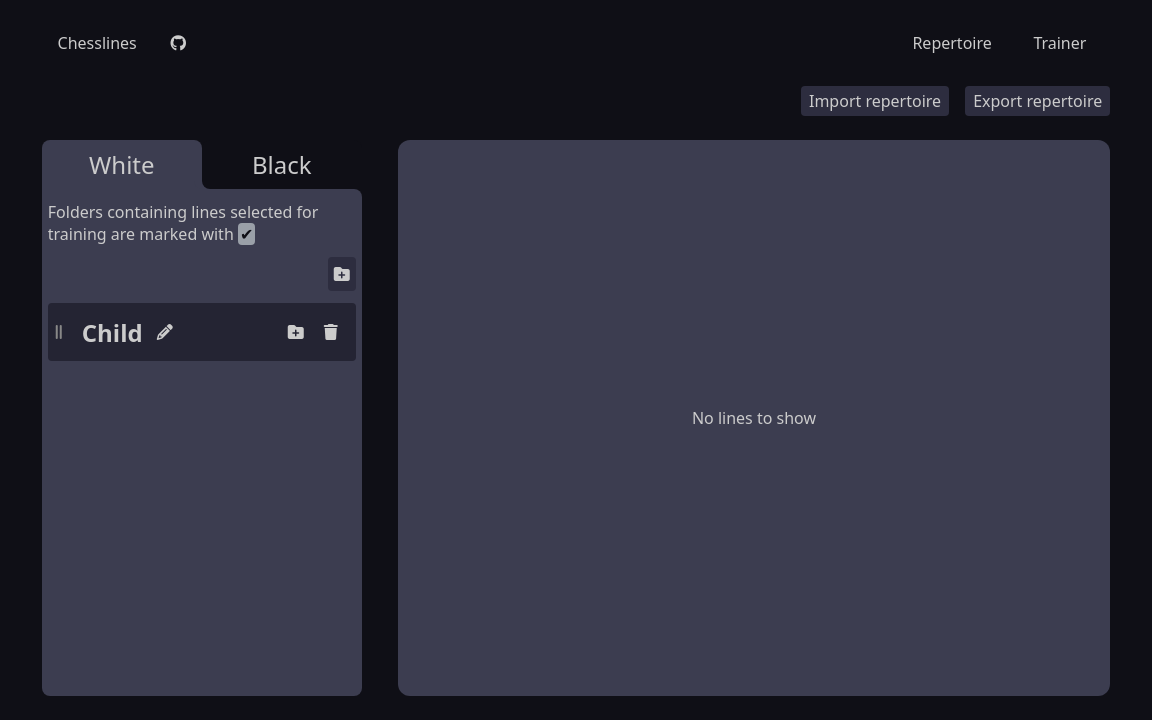
Test: New folder button › Discards new folder name form without submitting and renders new folder button when cancel button clicked
The image size is (1152, 720).
Click the button named "new folder". click: (296, 332)
box: [282,315,310,349]
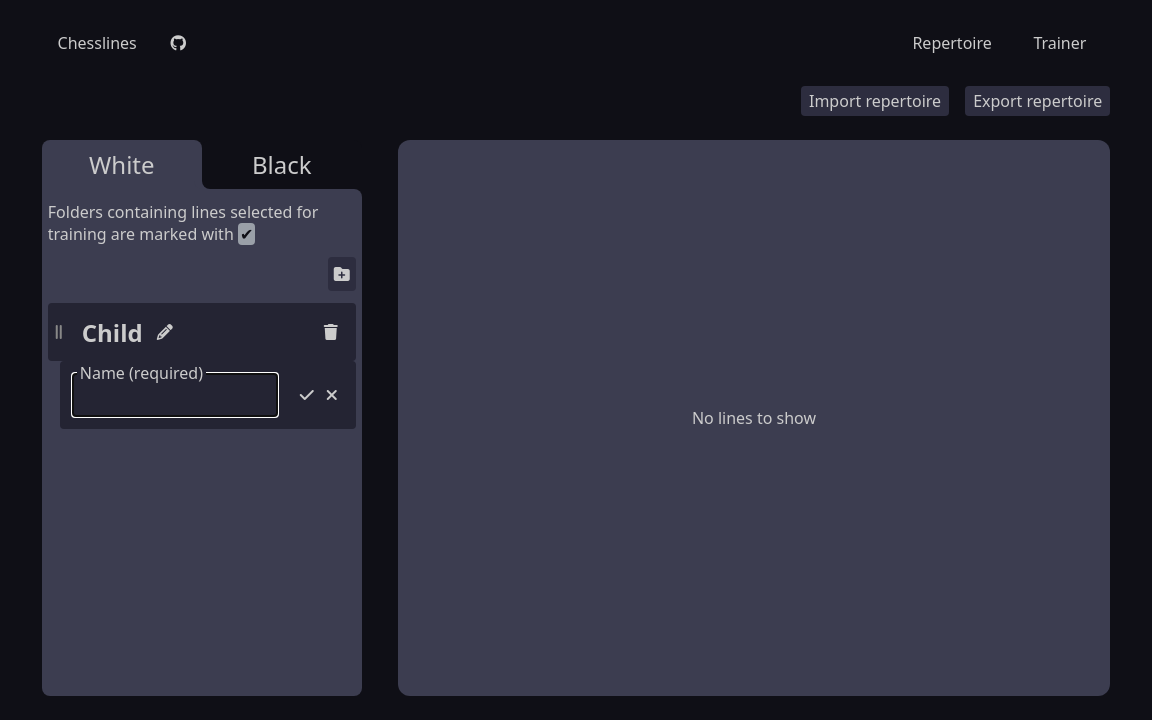
Click the button named "cancel". click: (332, 395)
box: [320,378,344,412]
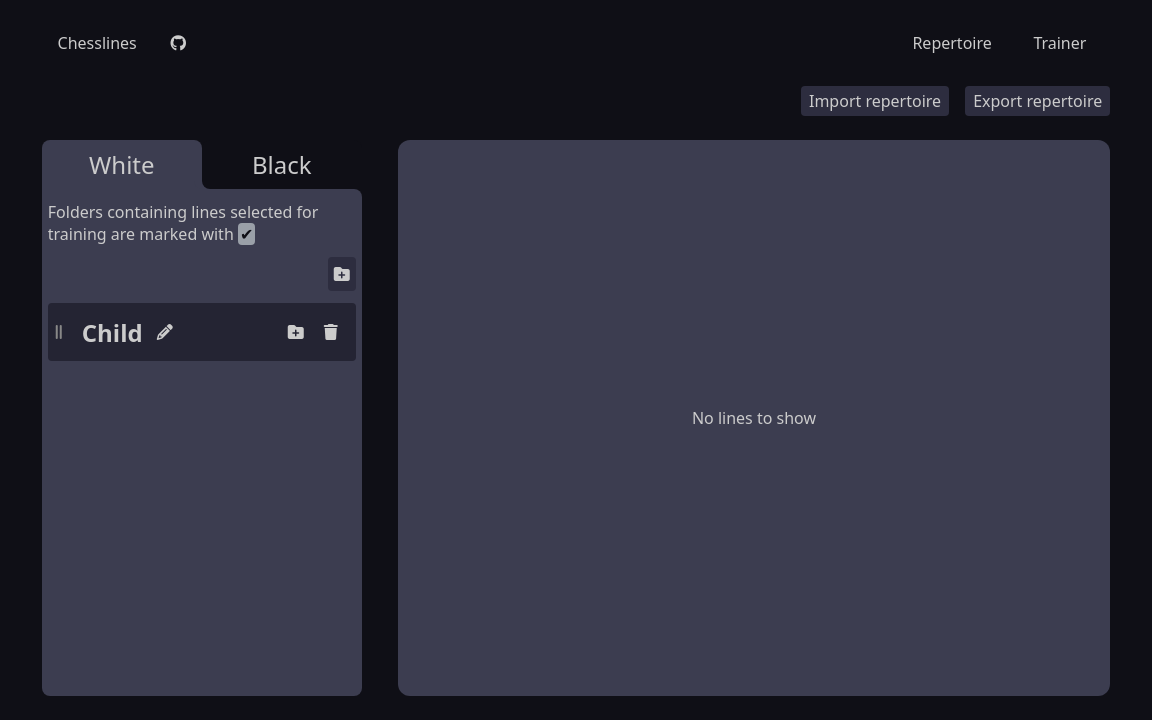
expect the number of list items named "folder" is 1: met, box [48,303,356,361]
expect the button named "new folder" is shown: met, box [282,315,310,349]
